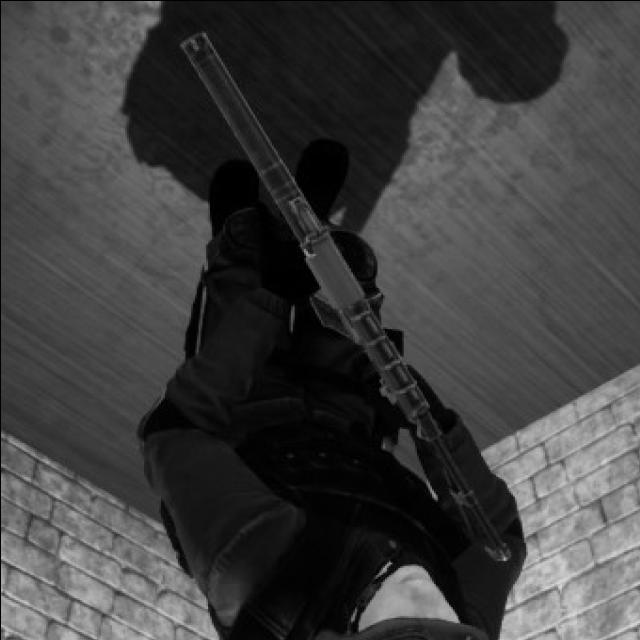rifle: (169, 24, 522, 566)
